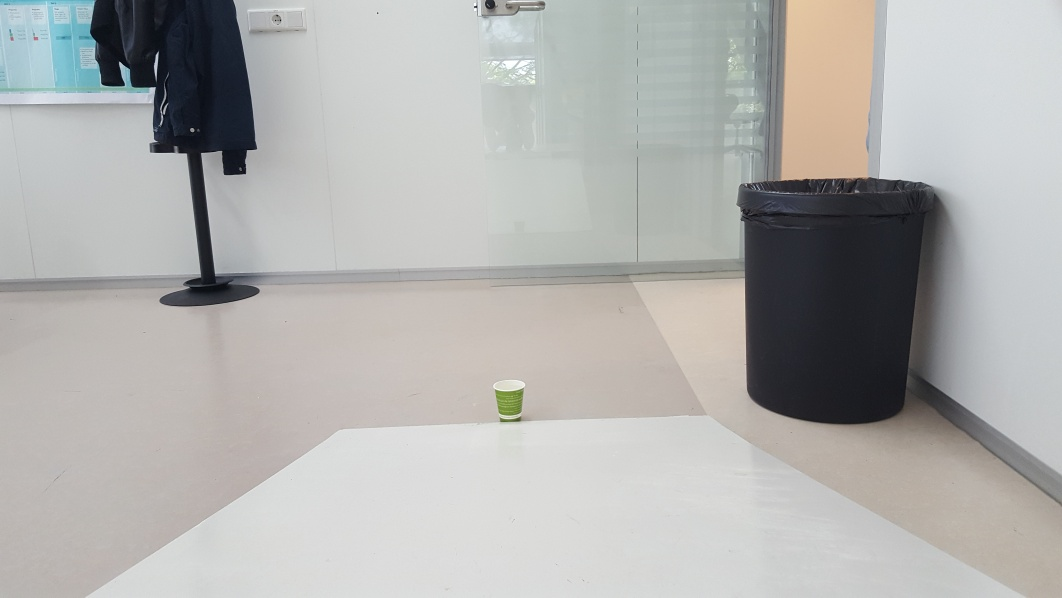cup: (491, 378, 529, 423)
